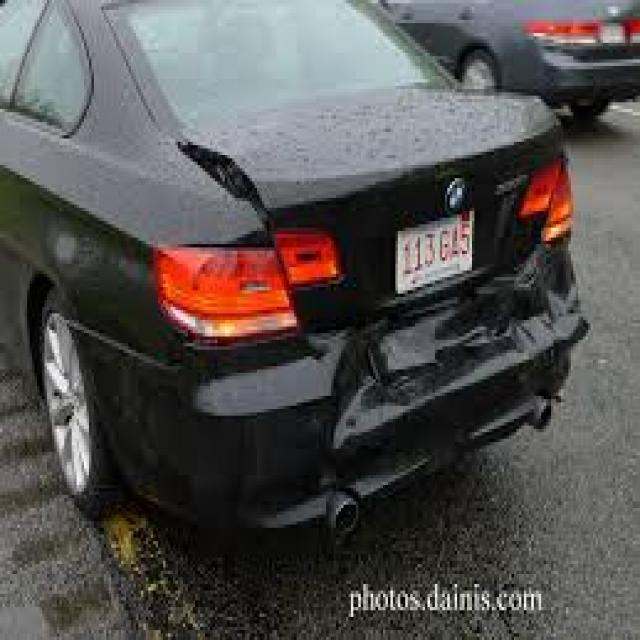moderate: (208, 87, 582, 489)
